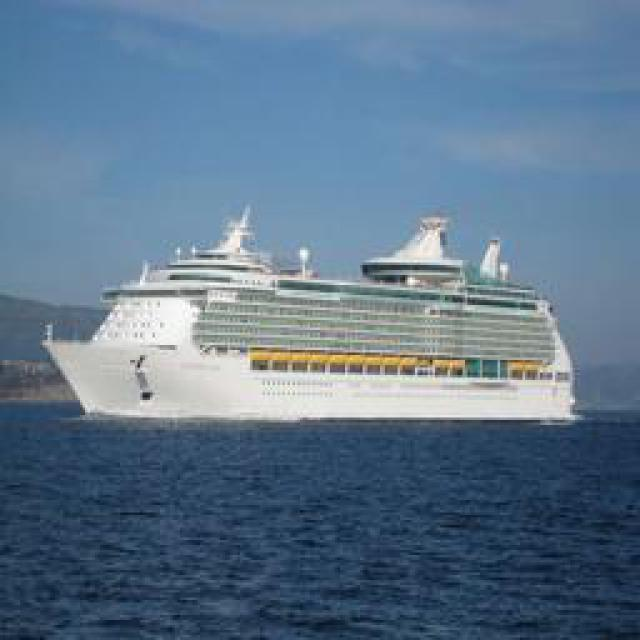Ship: (35, 203, 590, 428)
